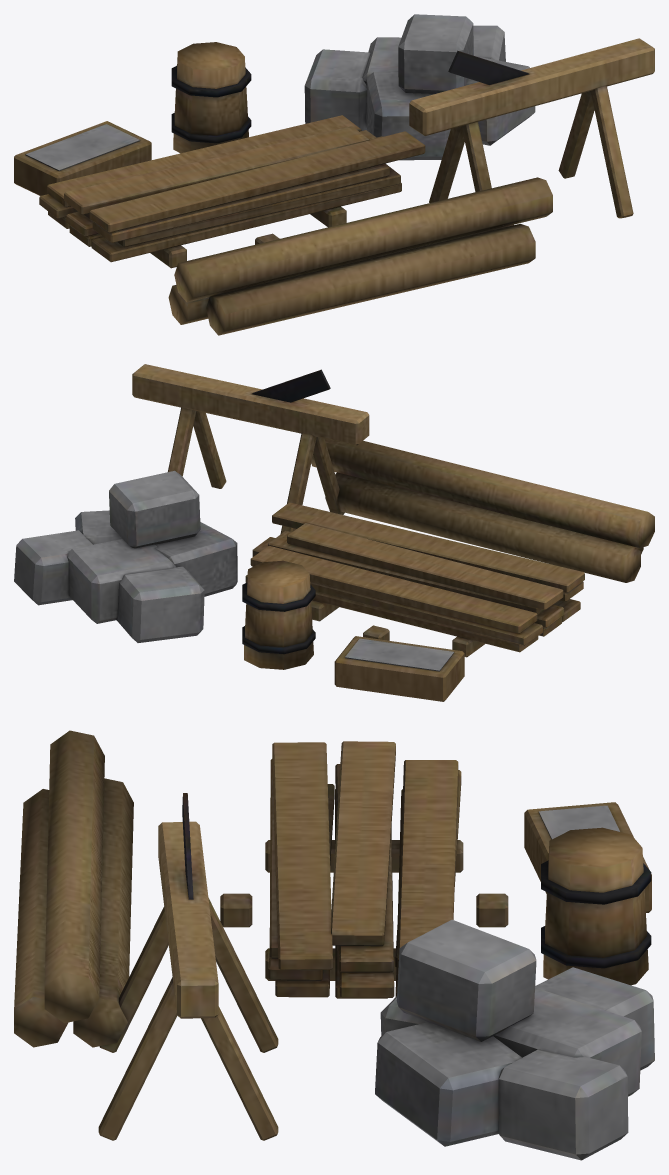
Rendered from lager.glb.
3 views of the same model, one above another, from view 1: azimuth 30°, elevation 25°; view 2: azimuth 150°, elevation 25°; view 3: azimuth 270°, elevation 25° (orthographic). The views are drawn at different scales.
Parts seen in each view (by area): view 1: lager; view 2: lager; view 3: lager.
Boxes of the visible parts, <box> form: lager: <box>14,14,654,335</box>; lager: <box>14,364,654,701</box>; lager: <box>14,730,654,1160</box>.
Size of the model in its own units: 2.59 by 0.88 by 2.01.
Materials: 1 (1 with a texture image).
